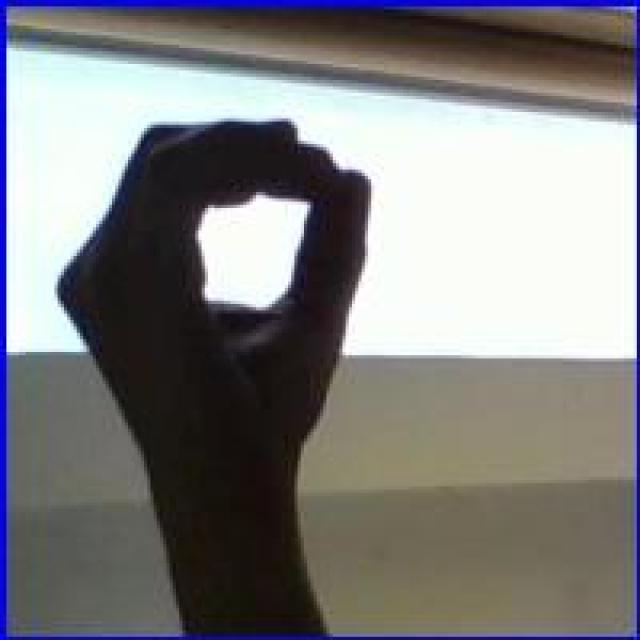O: (43, 94, 392, 440)
